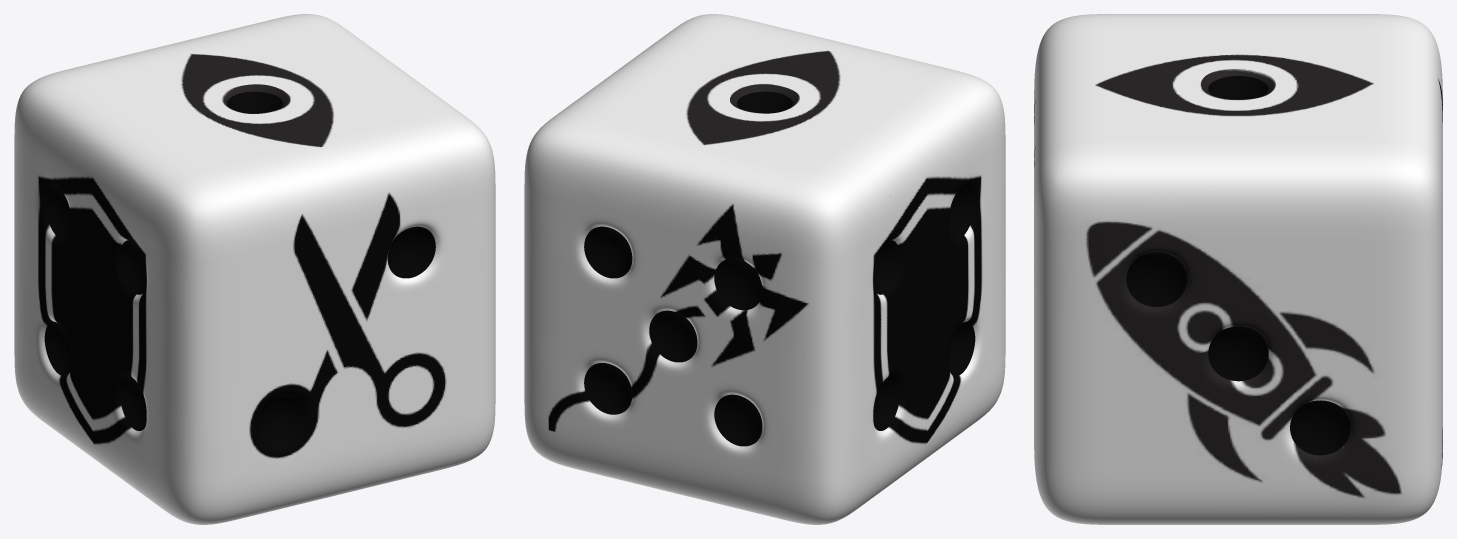
The model's file is Dice 6 Sides.fbx.
The picture shows the model from 3 angles, left to right: view 1: azimuth 30°, elevation 25°; view 2: azimuth 150°, elevation 25°; view 3: azimuth 270°, elevation 25°; orthographic projection. The views are drawn at different scales.
Visible parts, largest first — view 1: Cube; view 2: Cube; view 3: Cube.
Boxes of the visible parts, bbox=[...] form: Cube: bbox=[14, 14, 495, 524]; Cube: bbox=[524, 14, 1005, 524]; Cube: bbox=[1034, 14, 1442, 524].
Size of the model in its own units: 100 by 100 by 100.
